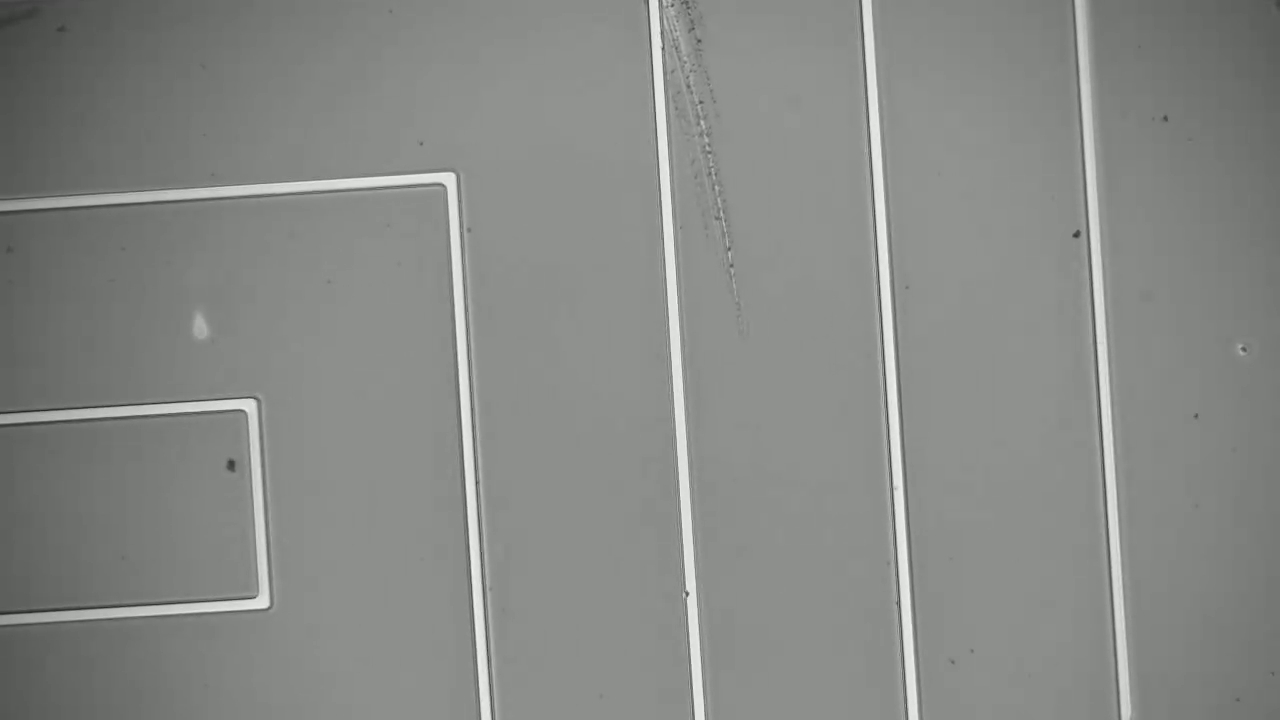scratch: (649, 1, 753, 304)
